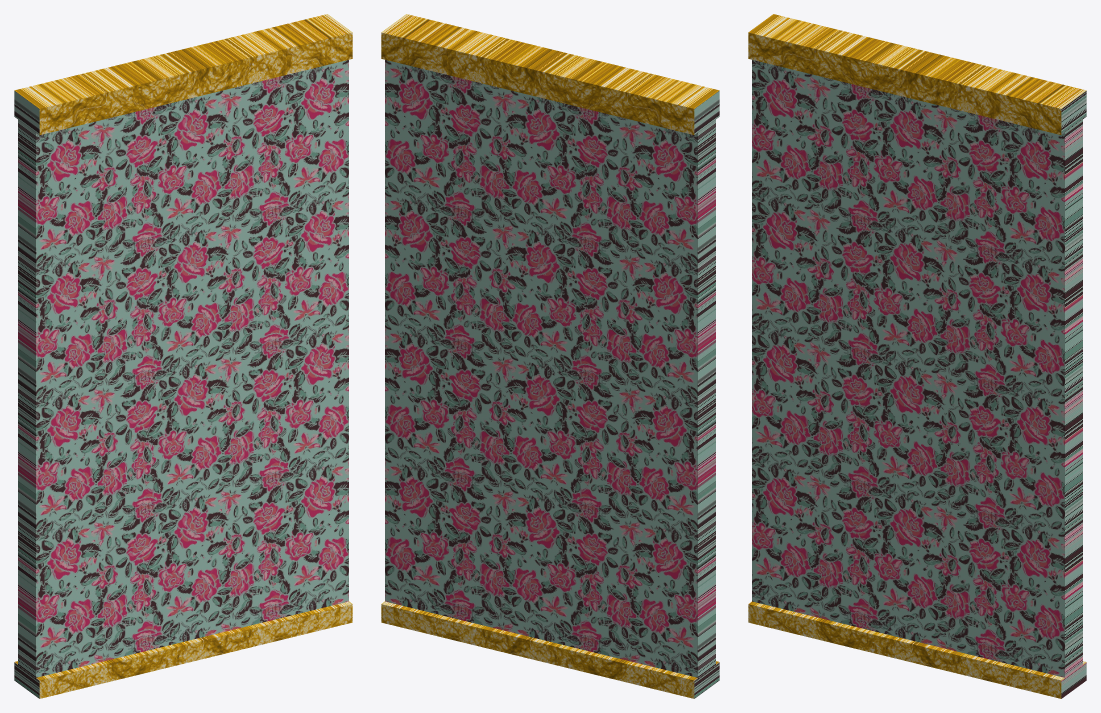
File: M_wall.fbx
3 renders of one model, left to right at view 1: azimuth 30°, elevation 25°; view 2: azimuth 150°, elevation 25°; view 3: azimuth 330°, elevation 25°, orthographic.
Visible parts, largest first — view 1: pCube2; view 2: pCube2; view 3: pCube2.
Part boxes in pixels (<box>): pCube2: <box>14,14,352,698</box>; pCube2: <box>381,14,719,698</box>; pCube2: <box>748,14,1086,698</box>.
Size of the model in its own units: 100 by 180 by 14.
2 materials, 2 textured.
